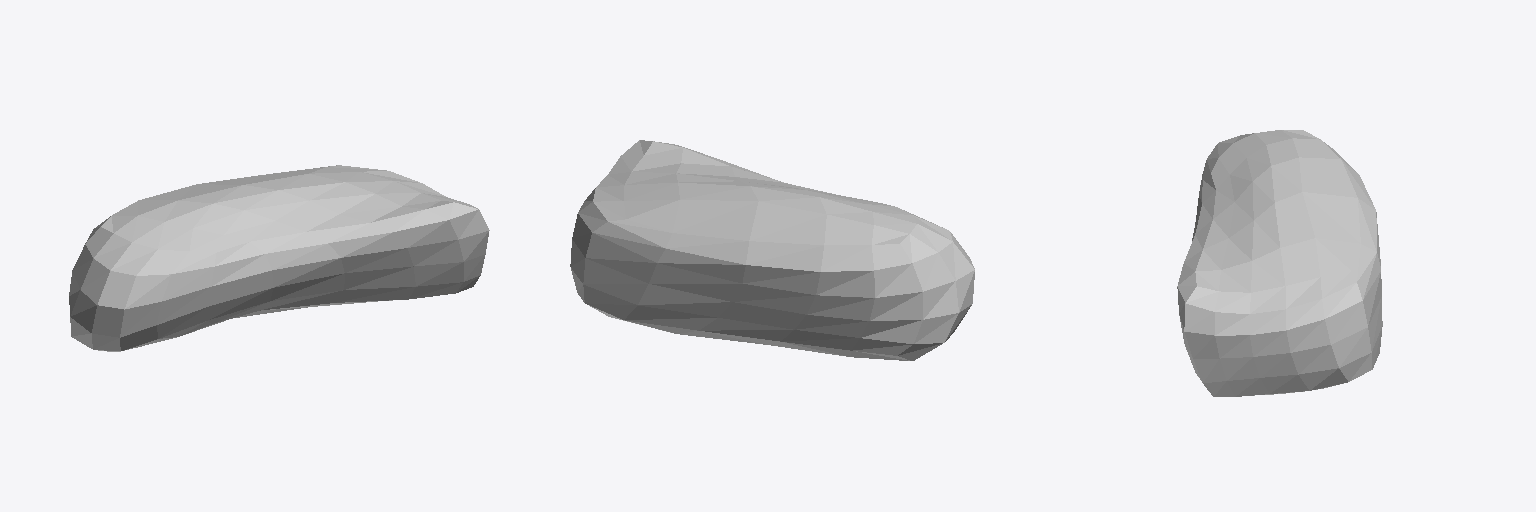
Rendered from Stone_001.obj.
3 views of the same model, side by side, from view 1: azimuth 30°, elevation 25°; view 2: azimuth 150°, elevation 25°; view 3: azimuth 270°, elevation 25° (orthographic).
Parts seen in each view (by area): view 1: Box006; view 2: Box006; view 3: Box006.
Boxes of the visible parts, x1,y1,x2,y2 form: Box006: [69, 165, 489, 351]; Box006: [570, 140, 974, 360]; Box006: [1177, 130, 1382, 396].
Bounding box in the file's own units: 108 × 36.86 × 51.08.